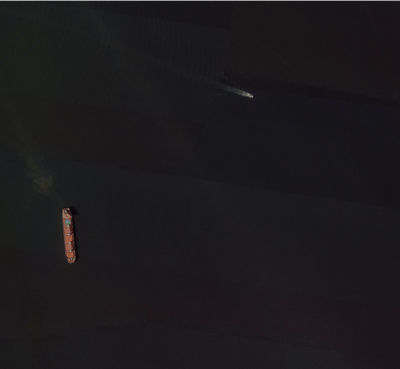boat: (62, 207, 76, 263), (250, 94, 254, 97)
